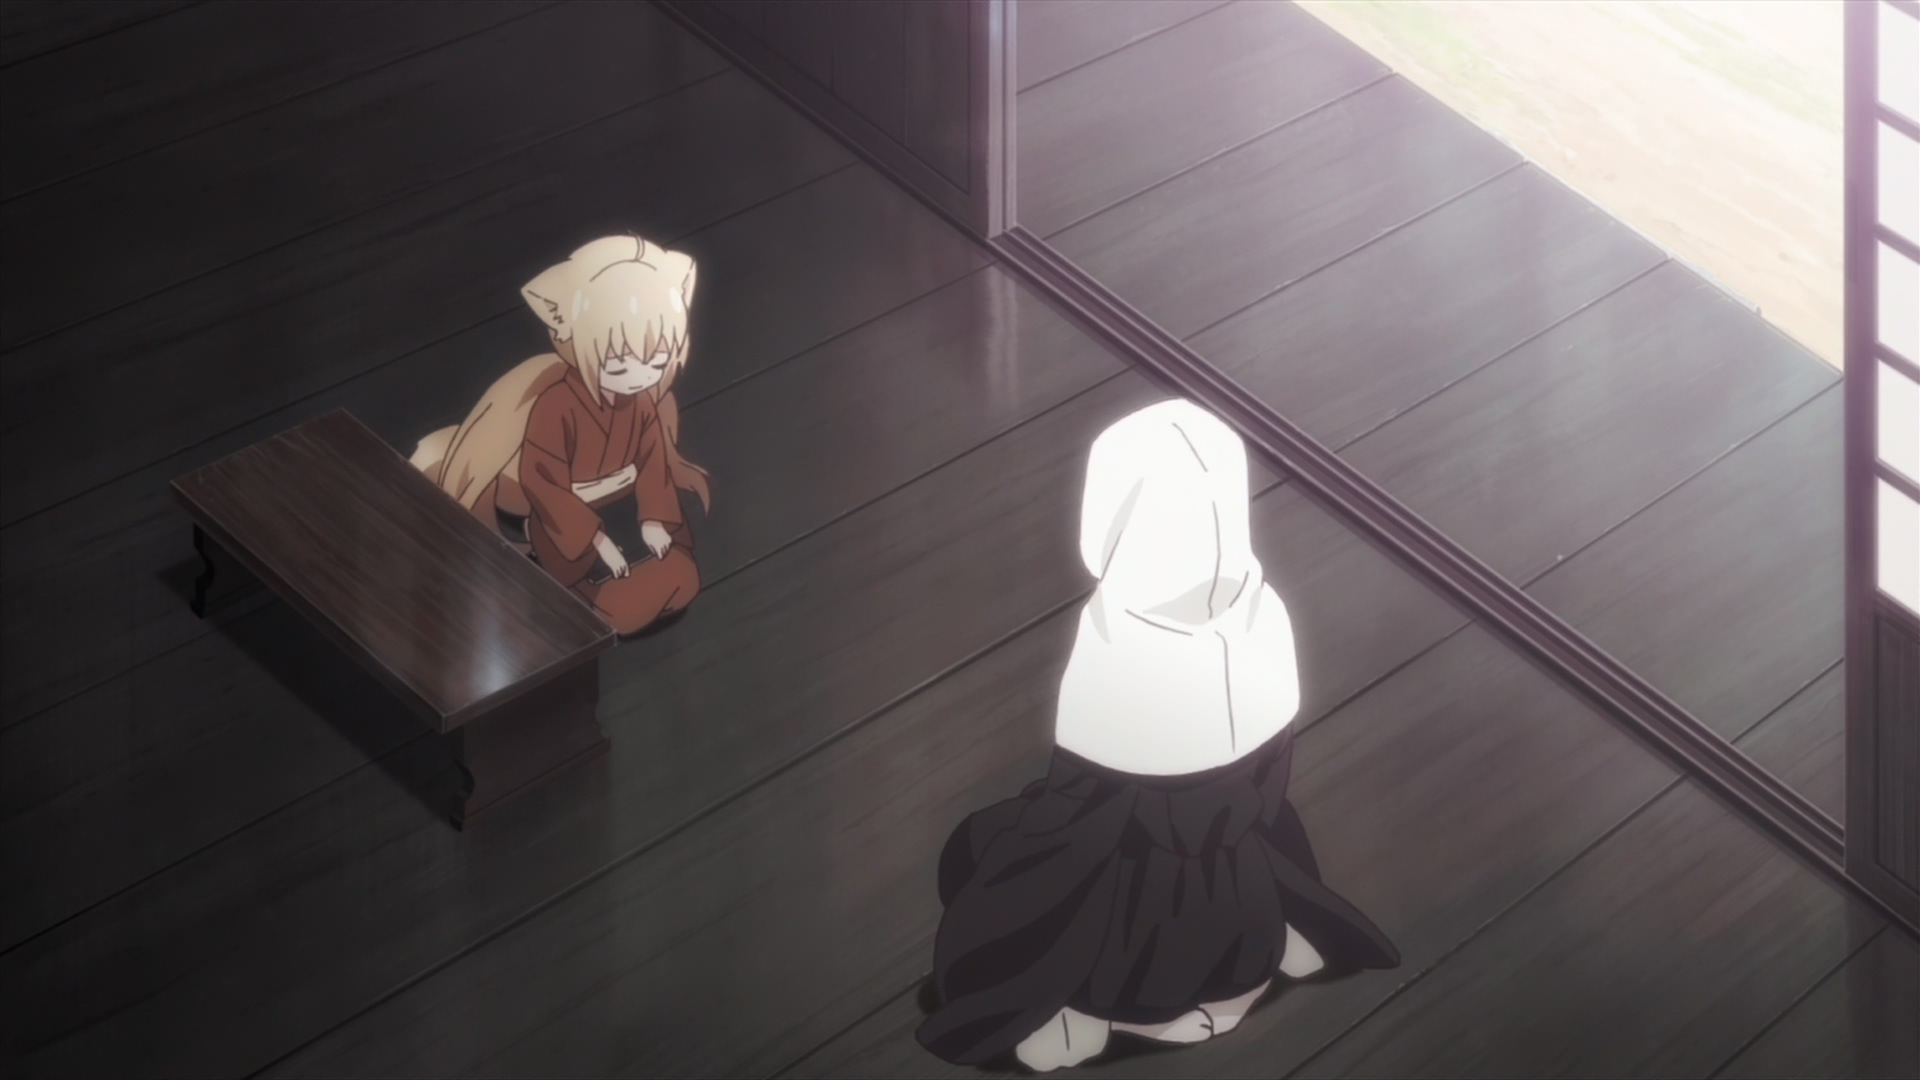八百比丘尼: (918, 397, 1402, 1073)
柚: (410, 228, 712, 641)
